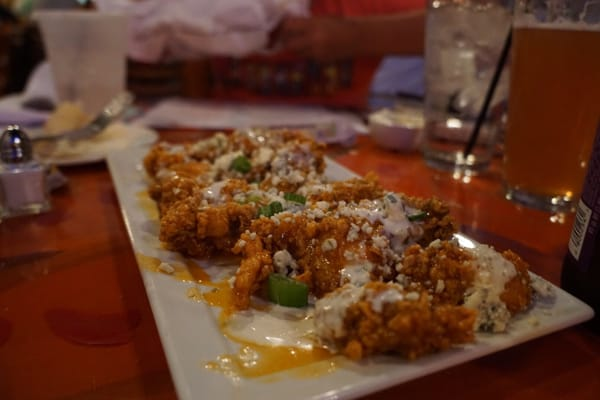sushi: (367, 106, 426, 152)
